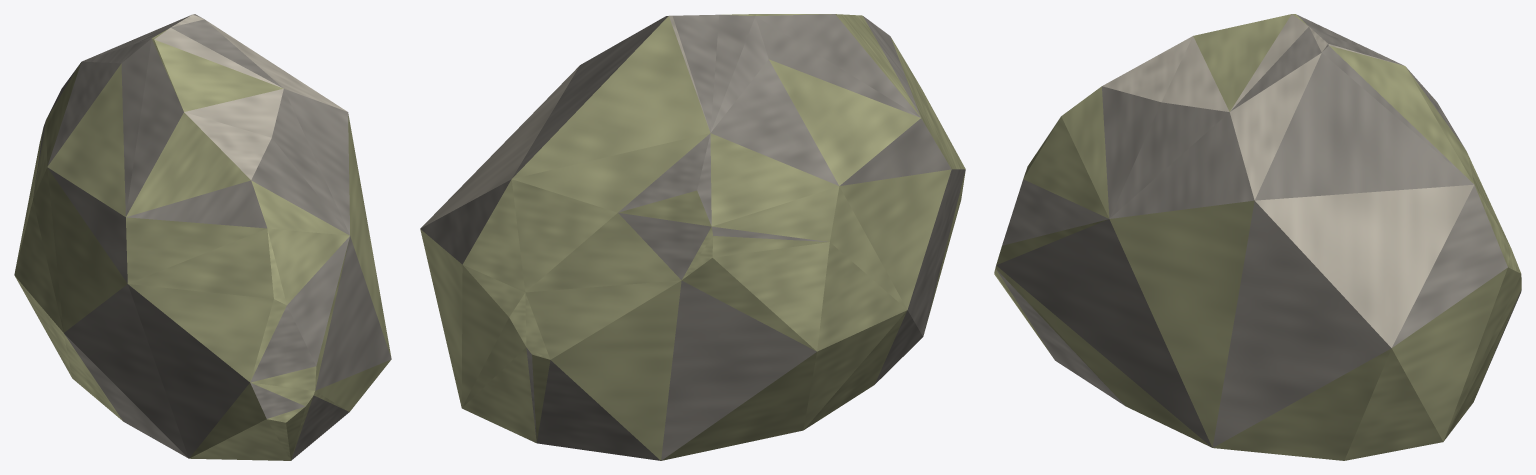
File: rock_medium_03.fbx
3 renders of one model, left to right at view 1: azimuth 30°, elevation 25°; view 2: azimuth 150°, elevation 25°; view 3: azimuth 270°, elevation 25°, orthographic. The views are drawn at different scales.
Parts seen in each view (by area): view 1: rock_medium_03; view 2: rock_medium_03; view 3: rock_medium_03.
Boxes of the visible parts, x1,y1,x2,y2 form: rock_medium_03: (14, 14, 391, 460); rock_medium_03: (420, 14, 965, 460); rock_medium_03: (994, 14, 1521, 460).
Bounding box in the file's own units: 1.25 × 1.12 × 1.59.
